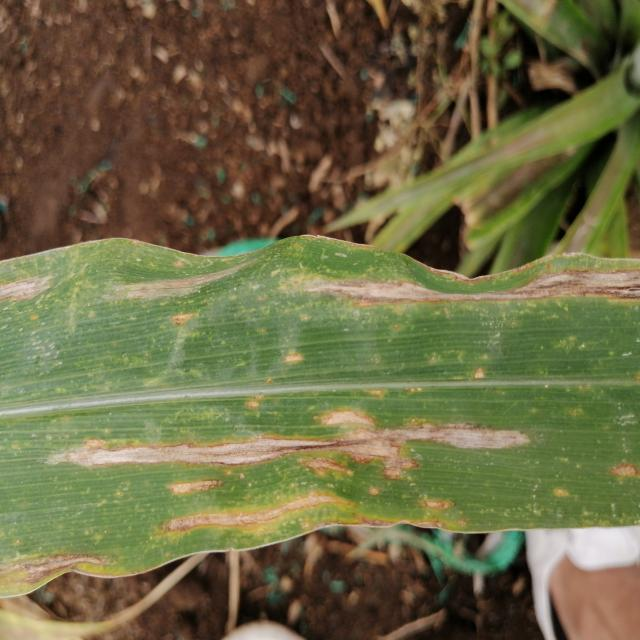Corn_Leaf_Blight: (1, 230, 640, 532)
